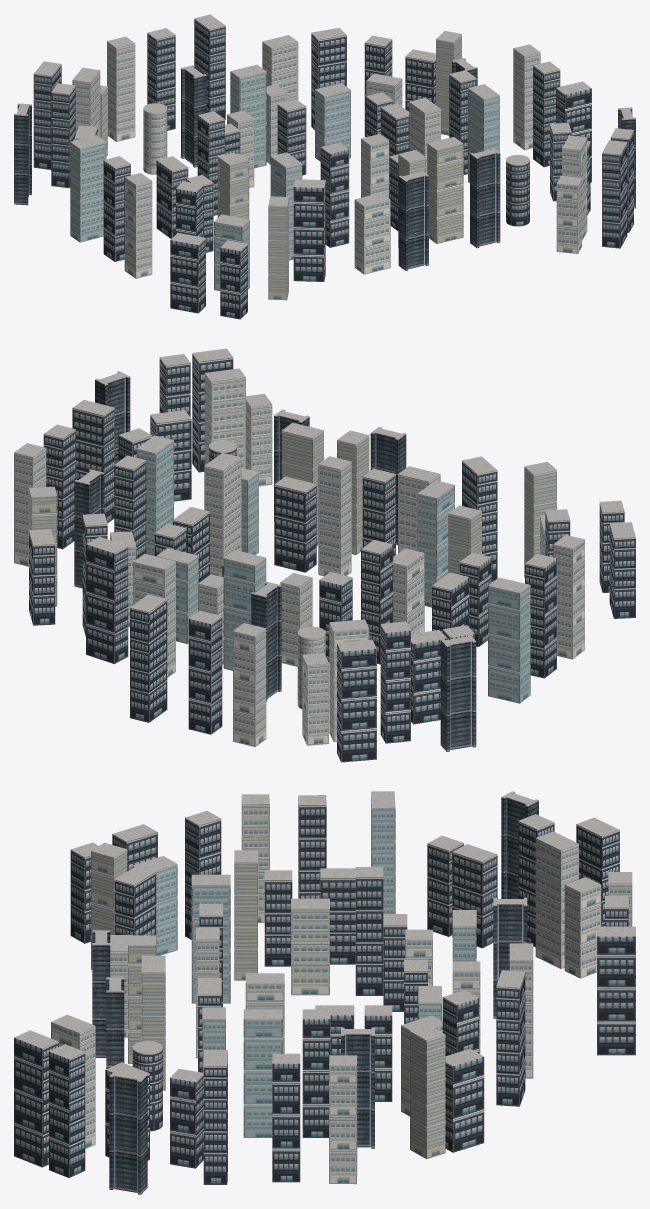
File: CityEnvironment.fbx
The picture shows the model from 3 angles, top to bottom: view 1: azimuth 30°, elevation 25°; view 2: azimuth 150°, elevation 25°; view 3: azimuth 270°, elevation 25°; orthographic projection. The views are drawn at different scales.
Visible parts, largest first — view 1: building_004.013, building_004.061, building_004.056, building_007, building_007.004, building_004.060, building_004.063, building_004.033, building_004.059, building_004.052, building_004.026, building_004.064 (+47 smaller); view 2: building_004.044, building_004.061, building_004.040, building_004.064, building_004.065, building_007.007, building_004.063, building_004.006, building_004.035, building_004.007, building_004.041, building_004.060 (+49 smaller); view 3: building_004.064, building_004.053, building_007.008, building_004.052, building_004.045, building_004.039, building_004.029, building_004.044, building_004.047, building_004.003, building_004.068, building_004.008 (+51 smaller).
Boxes of the visible parts, x1,y1,x2,y2 form: building_004.013: (427, 137, 463, 243); building_004.061: (70, 135, 106, 242); building_004.056: (293, 179, 325, 281); building_007: (398, 170, 428, 270); building_007.004: (470, 148, 500, 248); building_004.060: (124, 173, 152, 278); building_004.063: (107, 36, 135, 141); building_004.033: (354, 193, 390, 274); building_004.059: (170, 233, 205, 313); building_004.052: (602, 140, 627, 248); building_004.026: (320, 142, 349, 247); building_004.064: (194, 14, 225, 119); building_004.044: (86, 536, 128, 663); building_004.061: (488, 577, 530, 703); building_004.040: (337, 639, 376, 762); building_004.064: (130, 594, 167, 722); building_004.065: (188, 610, 222, 734); building_007.007: (440, 635, 476, 751); building_004.063: (233, 623, 266, 746); building_004.006: (318, 456, 351, 576); building_004.035: (274, 476, 316, 572); building_004.007: (204, 453, 241, 576); building_004.041: (380, 621, 410, 743); building_004.060: (553, 535, 584, 659); building_004.064: (597, 926, 635, 1055); building_004.053: (49, 1044, 85, 1177); building_007.008: (109, 1069, 147, 1194); building_004.052: (14, 1030, 58, 1167); building_004.045: (410, 1025, 445, 1159); building_004.039: (535, 831, 578, 968); building_004.029: (243, 1009, 282, 1137); building_004.044: (496, 970, 525, 1106); building_004.047: (445, 1048, 484, 1152); building_004.003: (291, 898, 329, 995); building_004.068: (272, 1053, 300, 1182); building_004.008: (355, 867, 383, 995).
Bounding box in the file's own units: 34611 × 6622 × 31336.
7 materials, 7 textured.
